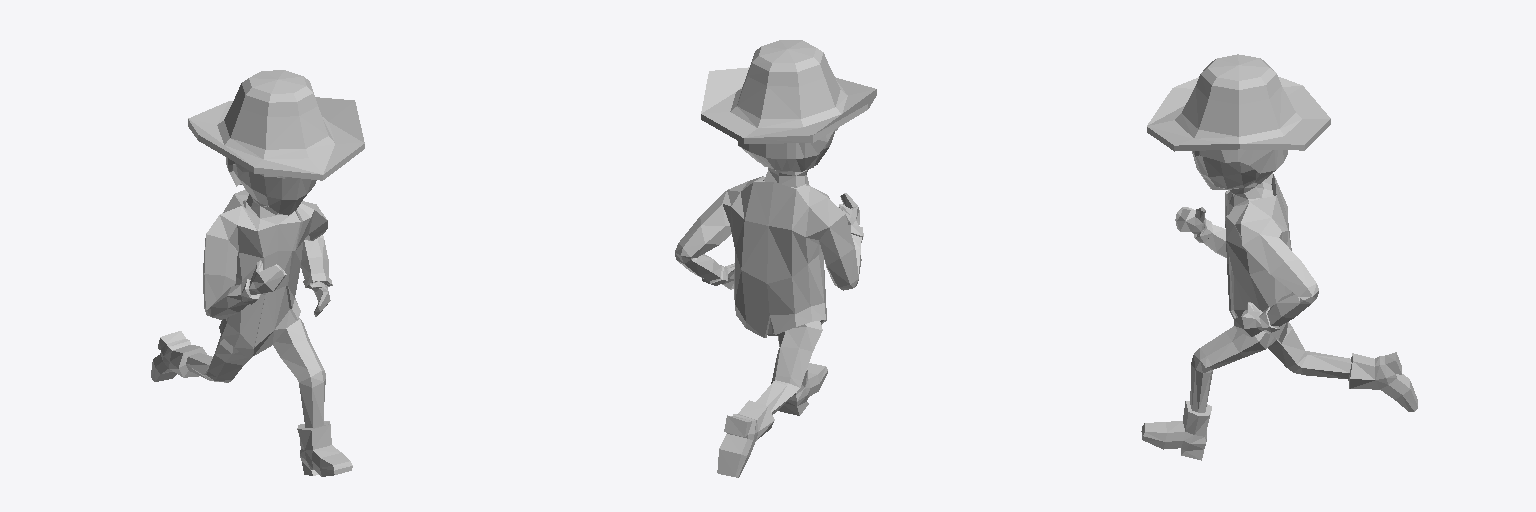
The model's file is char_18.obj.
3 renders of one model, left to right at view 1: azimuth 30°, elevation 25°; view 2: azimuth 150°, elevation 25°; view 3: azimuth 270°, elevation 25°, orthographic.
Visible parts, largest first — view 1: Cube; view 2: Cube; view 3: Cube.
Part boxes in pixels (x1,y1,x2,y2): Cube: (151,70,364,476); Cube: (675,40,876,477); Cube: (1141,54,1417,460).
Bounding box in the file's own units: 3.49 × 8.07 × 5.29.